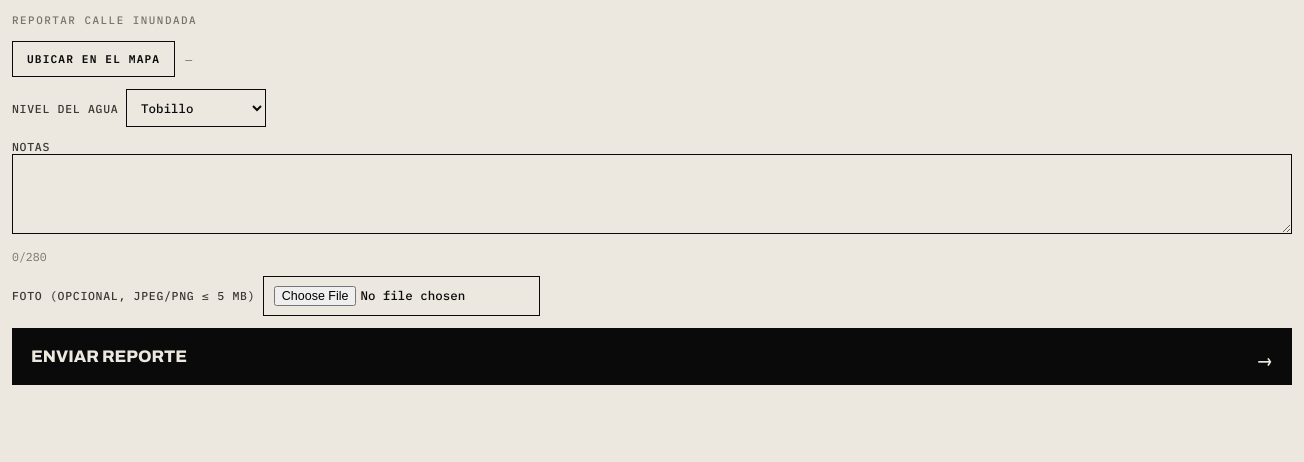
Test: ReportPanel › sin ubicación pide tocar el mapa
Step 1. Click the button "Enviar reporte" → [109, 356], box [12,328,1292,385]
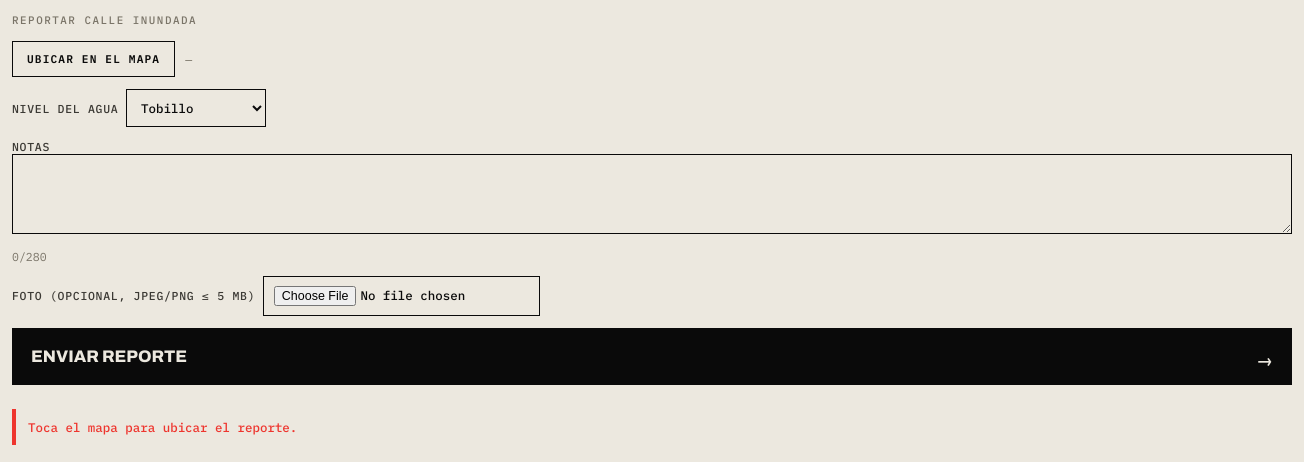
Check: the message shows "Toca el mapa", box [28,419,297,435]
